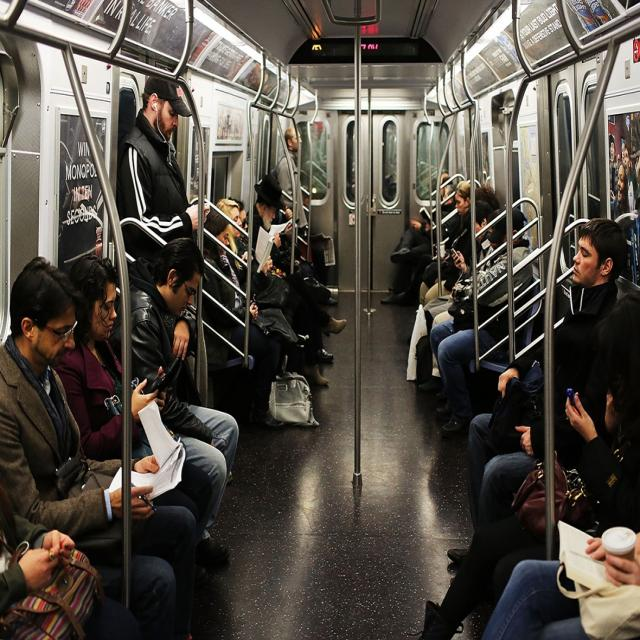body: (415, 290, 640, 639), (0, 256, 199, 640), (447, 216, 628, 584), (53, 251, 214, 543), (105, 236, 241, 572), (428, 207, 536, 435), (228, 198, 349, 387), (472, 518, 640, 638), (115, 73, 212, 264), (1, 495, 124, 639), (244, 172, 334, 365), (197, 209, 282, 405), (418, 185, 502, 307), (429, 199, 495, 332), (391, 171, 453, 296), (214, 196, 275, 305), (413, 180, 471, 279), (606, 113, 640, 266), (61, 152, 103, 248), (276, 125, 304, 225), (252, 182, 284, 255), (488, 207, 503, 249), (443, 184, 456, 207)
